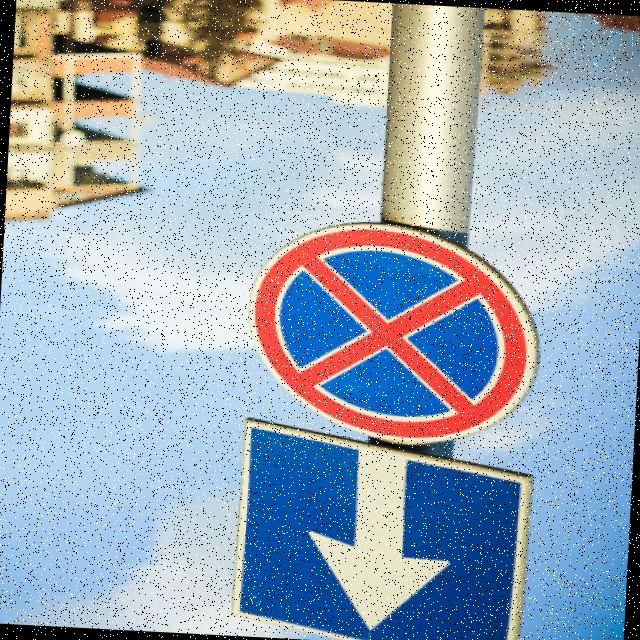no_parking: (234, 206, 549, 449)
